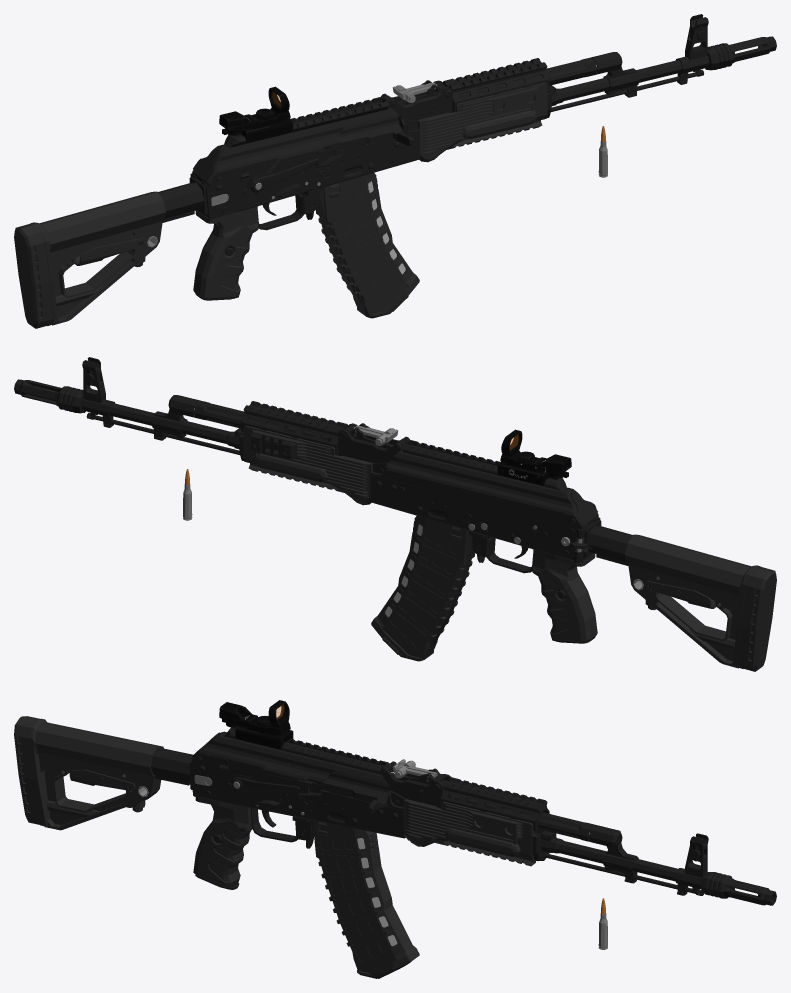
File: gun.glb
The picture shows the model from 3 angles, top to bottom: view 1: azimuth 30°, elevation 25°; view 2: azimuth 150°, elevation 25°; view 3: azimuth 330°, elevation 25°; orthographic projection.
Visible parts, largest first — view 1: ak200 receiver_6, 54539 ak12 30rnd empty mag_15, Scope mount, scope_low, bolt, Muzzle; view 2: ak200 receiver_6, 54539 ak12 30rnd empty mag_15, Scope mount, scope_low, Muzzle; view 3: ak200 receiver_6, 54539 ak12 30rnd empty mag_15, Scope mount, scope_low, bolt, Muzzle.
Part boxes in pixels (<box>): ak200 receiver_6: <box>14,14,709,328</box>; 54539 ak12 30rnd empty mag_15: <box>315,173,419,318</box>; Scope mount: <box>192,95,397,186</box>; scope_low: <box>219,86,293,142</box>; bolt: <box>324,113,413,150</box>; Muzzle: <box>705,36,776,70</box>; ak200 receiver_6: <box>81,357,776,671</box>; 54539 ak12 30rnd empty mag_15: <box>371,516,475,661</box>; Scope mount: <box>387,438,598,529</box>; scope_low: <box>497,429,571,485</box>; Muzzle: <box>14,379,85,413</box>; ak200 receiver_6: <box>14,716,708,895</box>; 54539 ak12 30rnd empty mag_15: <box>311,820,419,978</box>; Scope mount: <box>192,727,394,783</box>; scope_low: <box>219,700,293,749</box>; bolt: <box>309,771,390,813</box>; Muzzle: <box>700,872,776,905</box>.
Bounding box in the file's own units: 9.04 × 2.81 × 0.7316.
9 materials, 1 textured.
